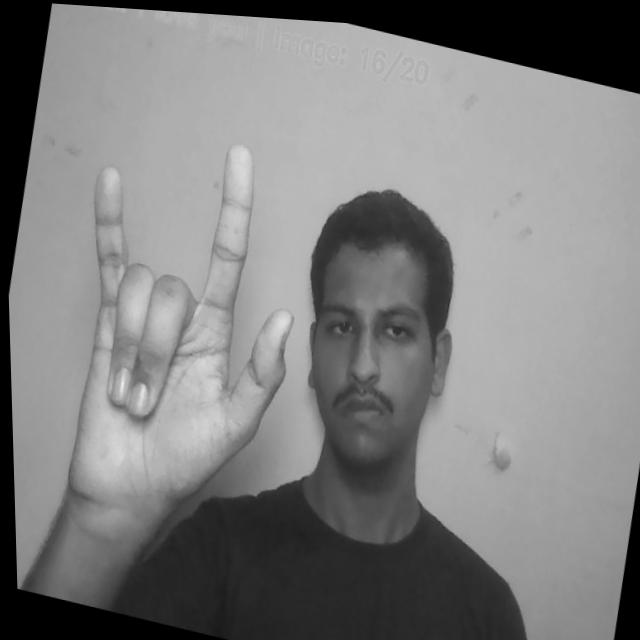I love you: (46, 104, 321, 528)
